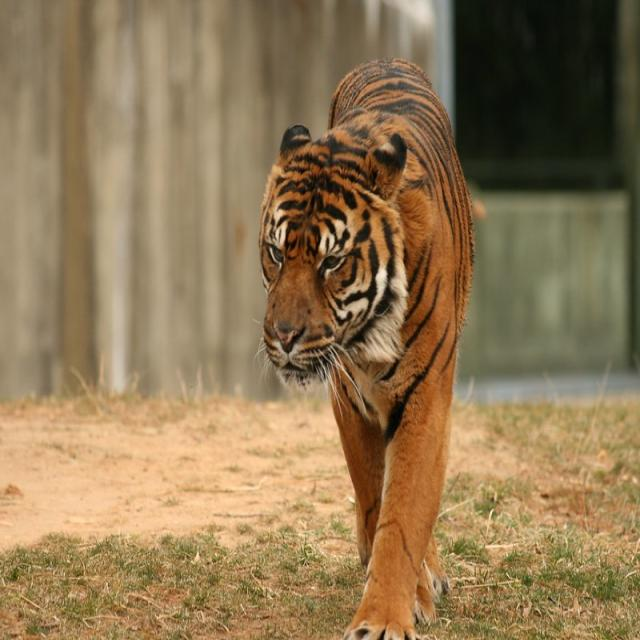Tiger: (254, 52, 477, 638)
